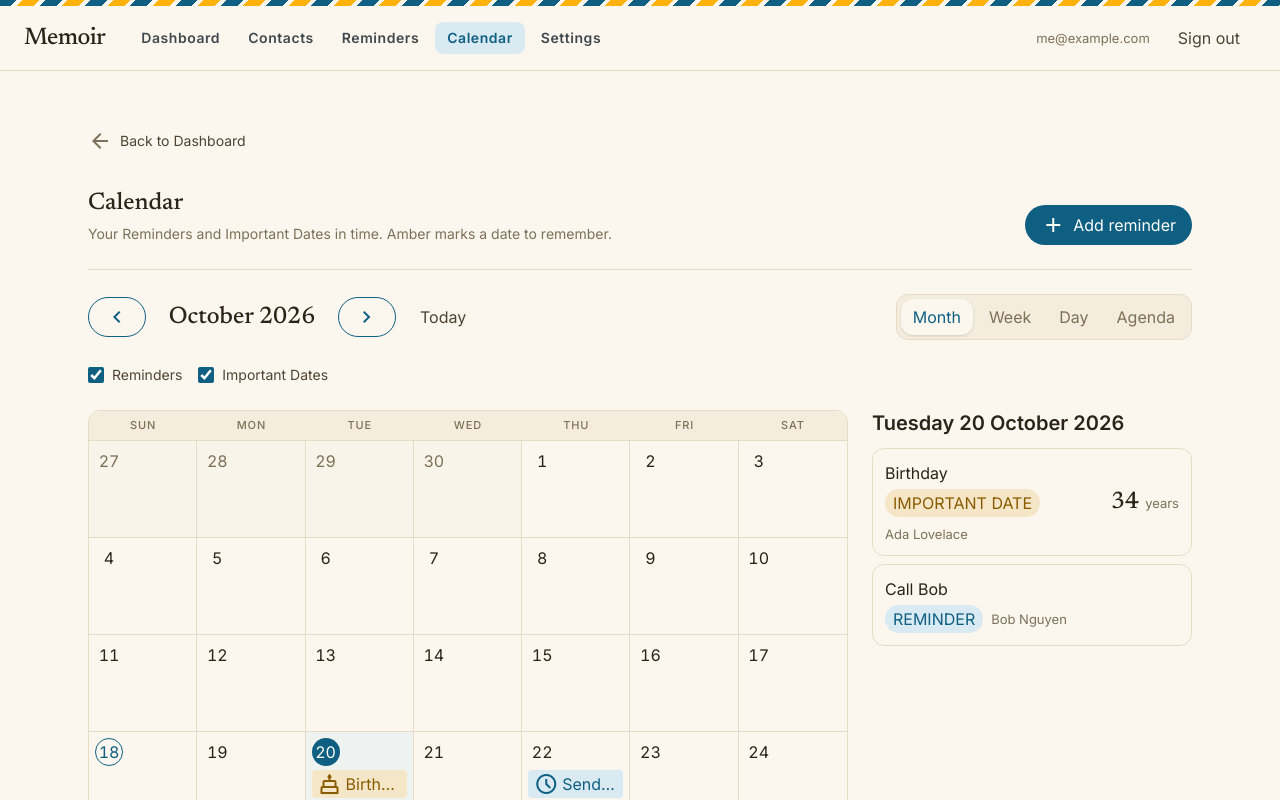
Test case: Calendar layers › hides and shows Reminders with their toggle
Click the checkbox labelled "Reminders": (96, 375) [88, 367, 104, 383]
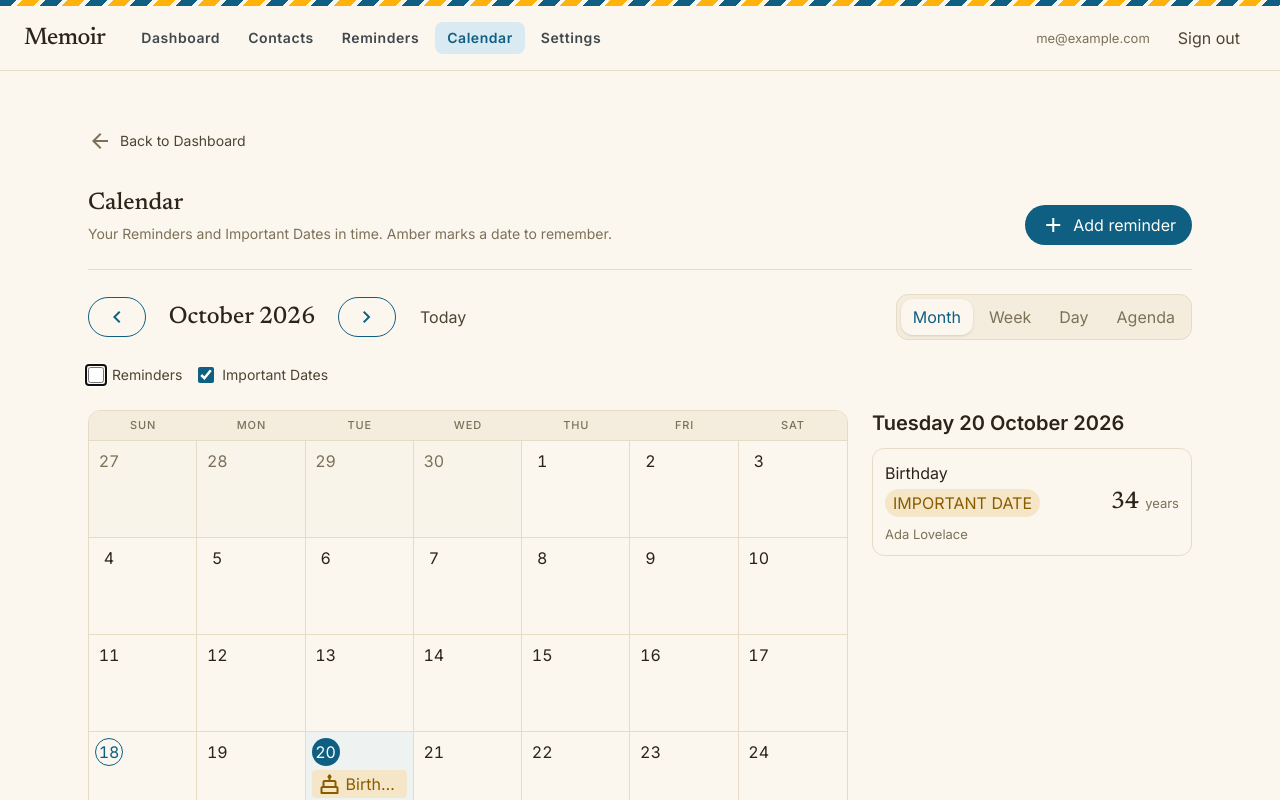
Check: the 2nd text "Birthday" is shown, box [346, 772, 401, 796]
Check: no buttons "Send a card" are shown
Click the checkbox labelled "Reminders": (96, 375) [88, 367, 104, 383]
(page scrolled)
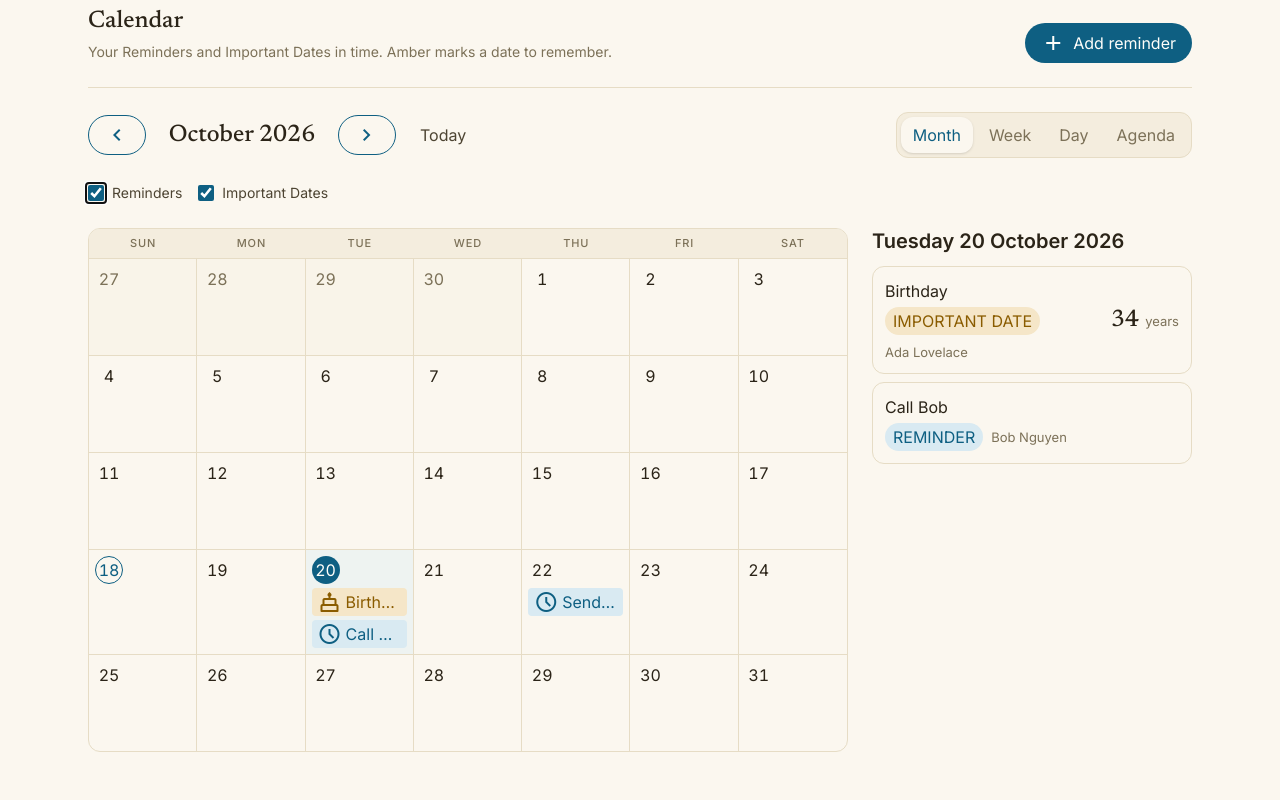
Check: the 2nd text "Call Bob" is shown, box [346, 622, 401, 646]
